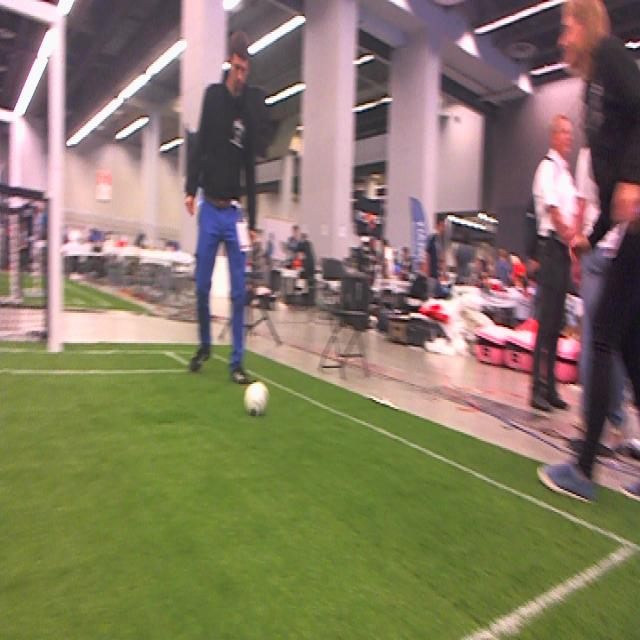ball: (243, 380, 267, 416)
goalpost: (45, 2, 66, 350)
